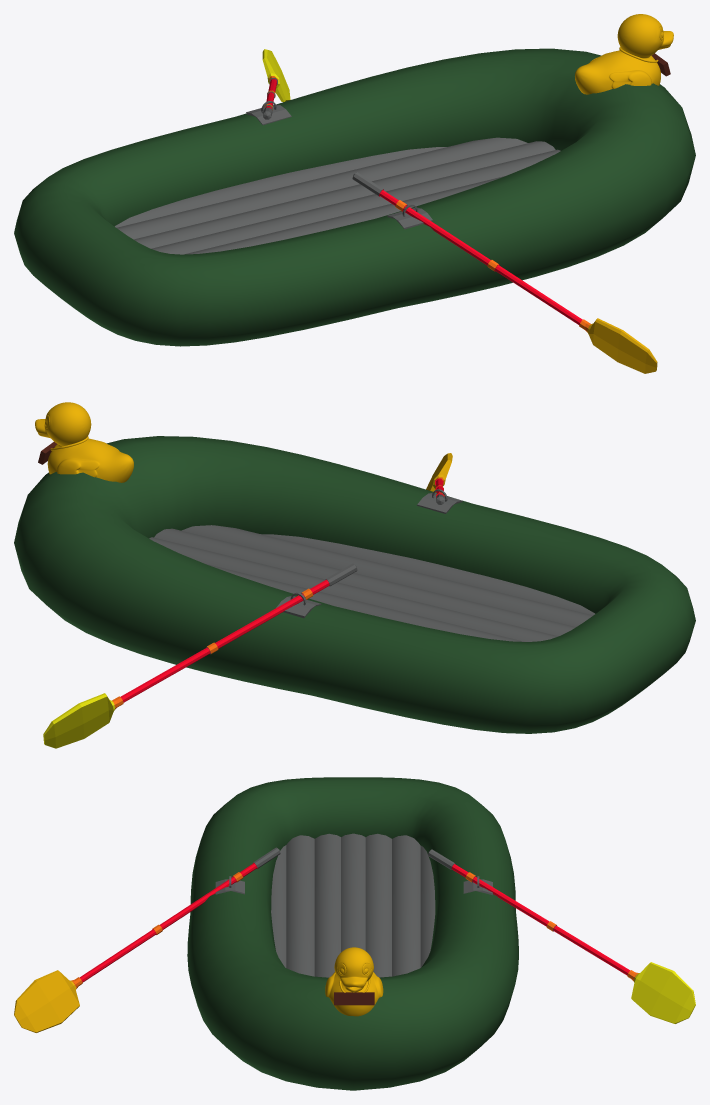
File: RobbertoBoat.fbx
The picture shows the model from 3 angles, top to bottom: view 1: azimuth 30°, elevation 25°; view 2: azimuth 150°, elevation 25°; view 3: azimuth 270°, elevation 25°; orthographic projection. The views are drawn at different scales.
Parts seen in each view (by area): view 1: Boat, RightPaddle, LeftPaddle; view 2: Boat, LeftPaddle, RightPaddle; view 3: Boat, RightPaddle, LeftPaddle.
Boxes of the visible parts, left/top/right/bottom form: Boat: left=14, top=14, right=695, bottom=346; RightPaddle: left=352, top=172, right=657, bottom=373; LeftPaddle: left=262, top=49, right=290, bottom=119; Boat: left=14, top=402, right=695, bottom=733; LeftPaddle: left=43, top=563, right=357, bottom=748; RightPaddle: left=426, top=453, right=452, bottom=504; Boat: left=187, top=777, right=518, bottom=1090; RightPaddle: left=14, top=847, right=280, bottom=1032; LeftPaddle: left=428, top=849, right=695, bottom=1023.
Bounding box in the file's own units: 621 × 174 × 674.
